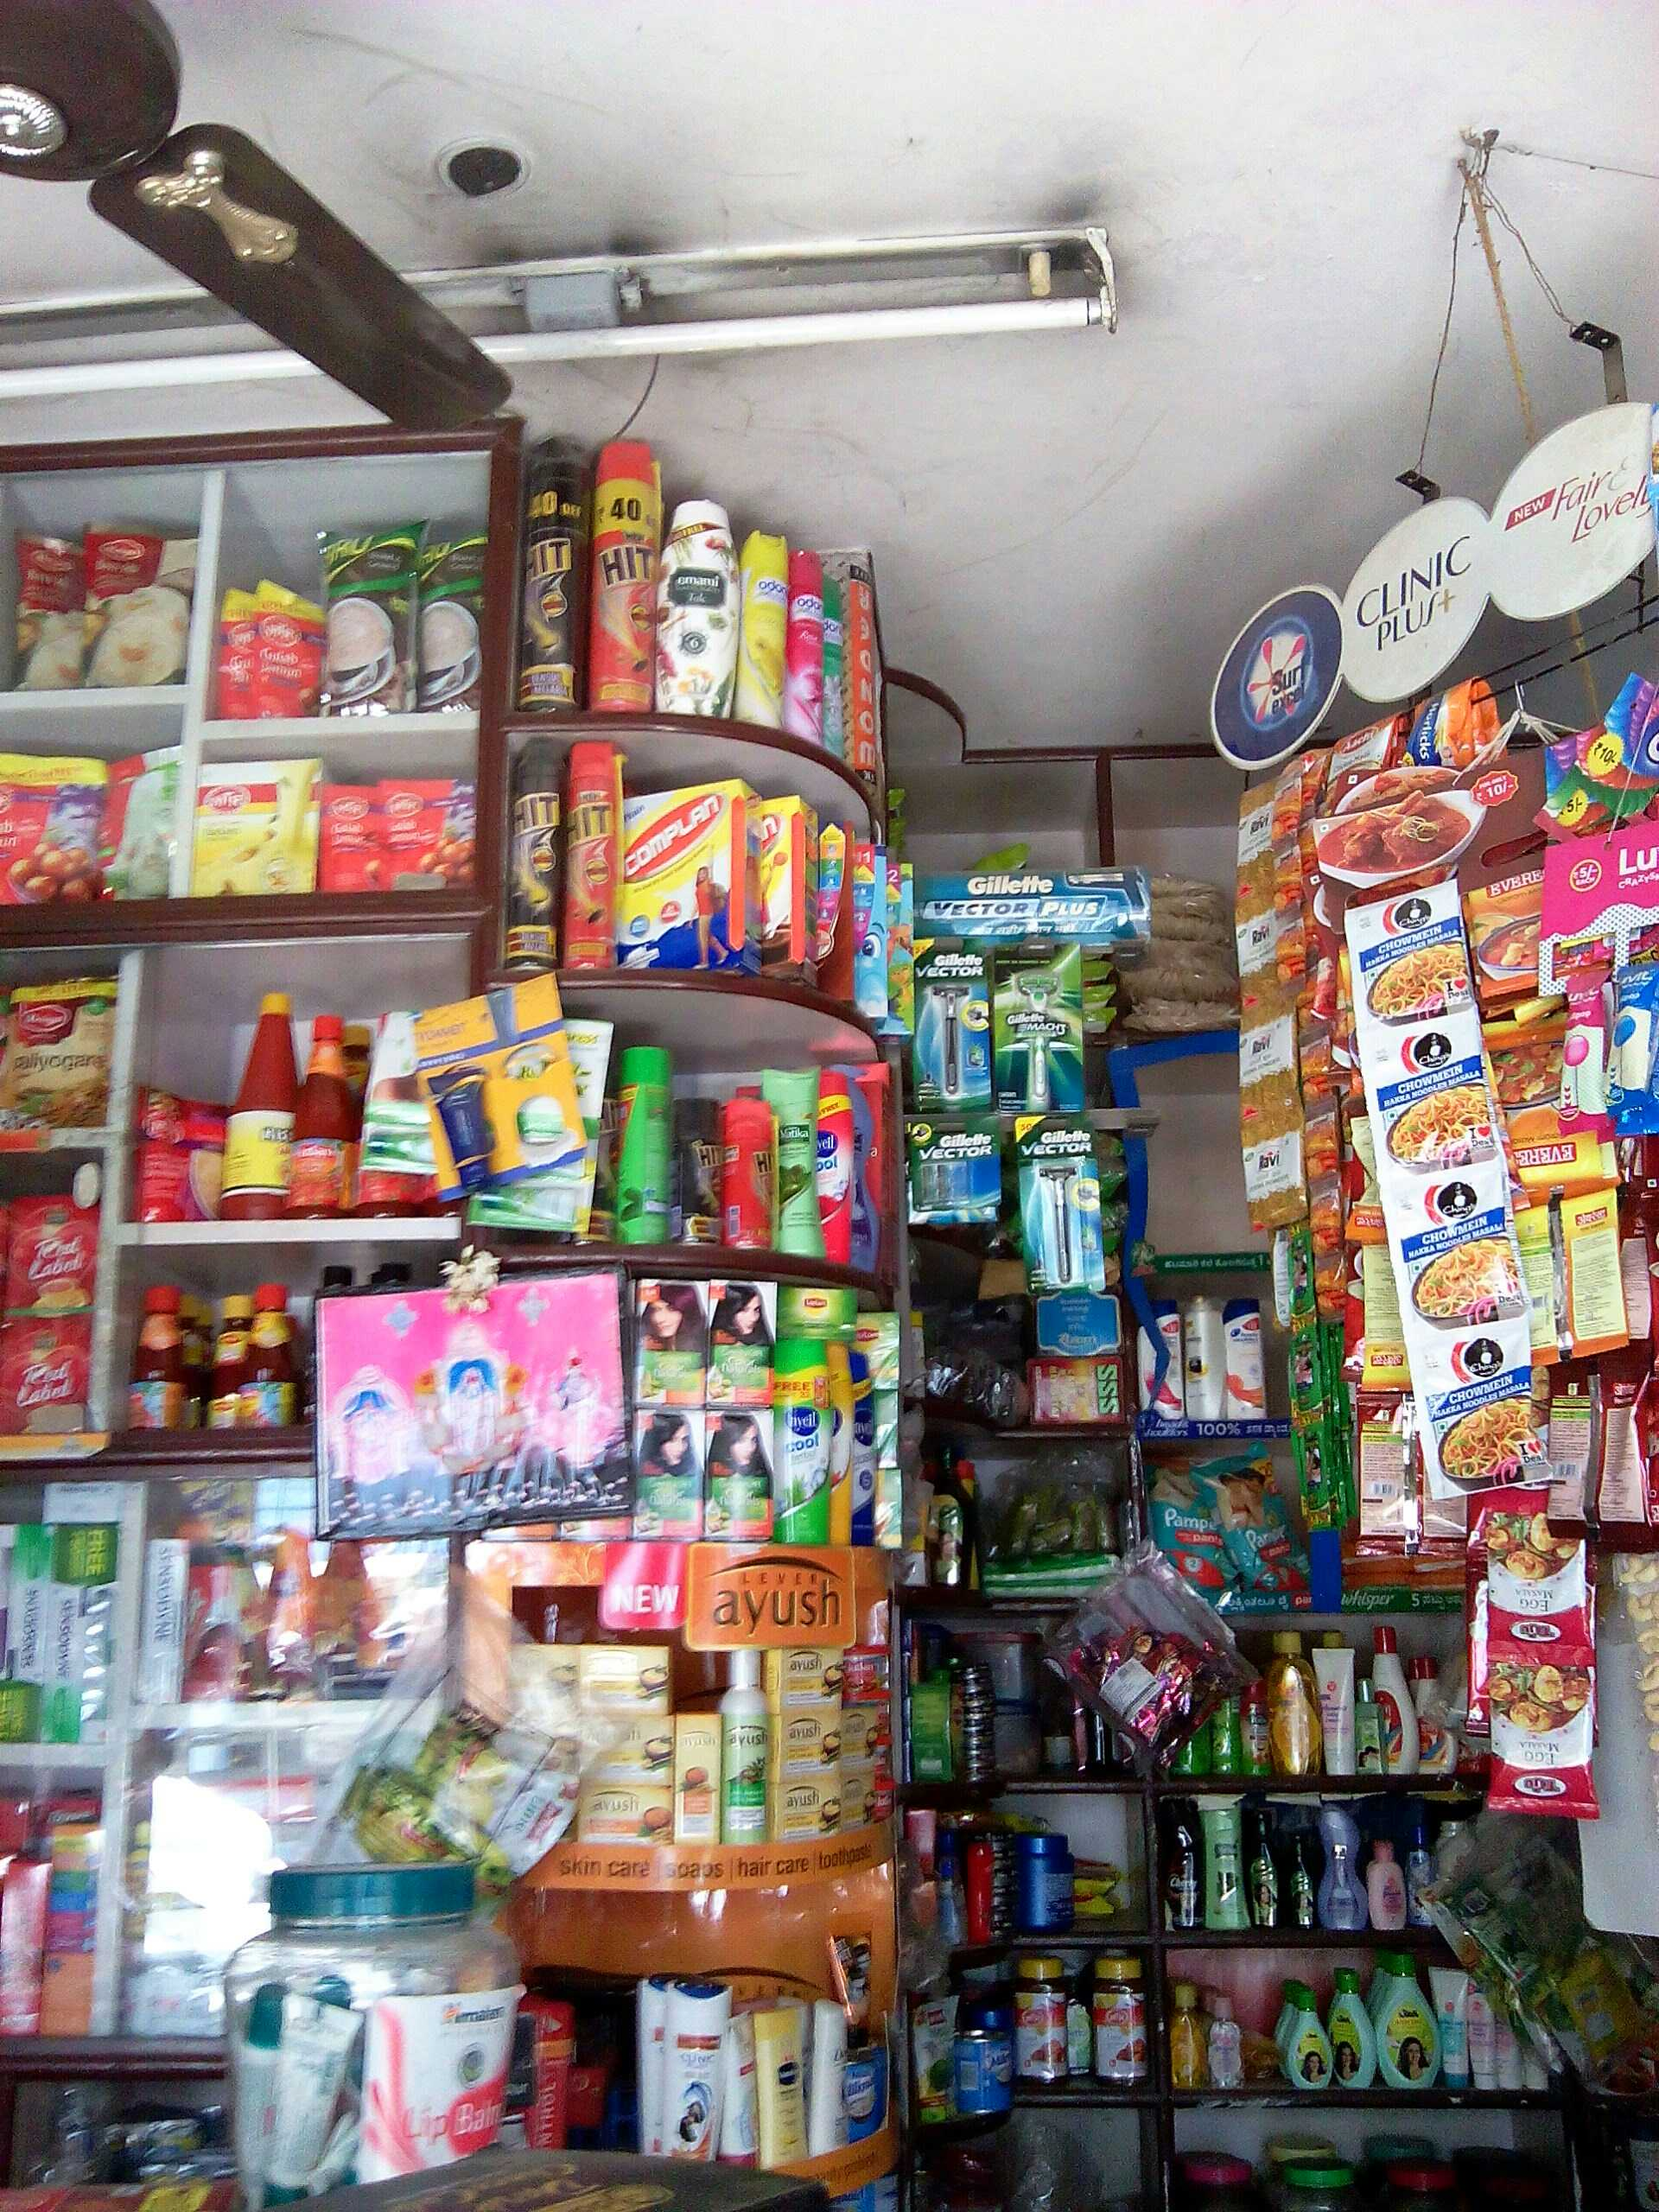beauty: (1007, 1122, 1119, 1296), (986, 949, 1072, 1101), (915, 946, 985, 1109), (910, 1111, 1000, 1216), (1185, 1296, 1230, 1420), (1234, 1312, 1267, 1425)
pharmacy: (1204, 1446, 1298, 1587), (1140, 1442, 1220, 1602)
